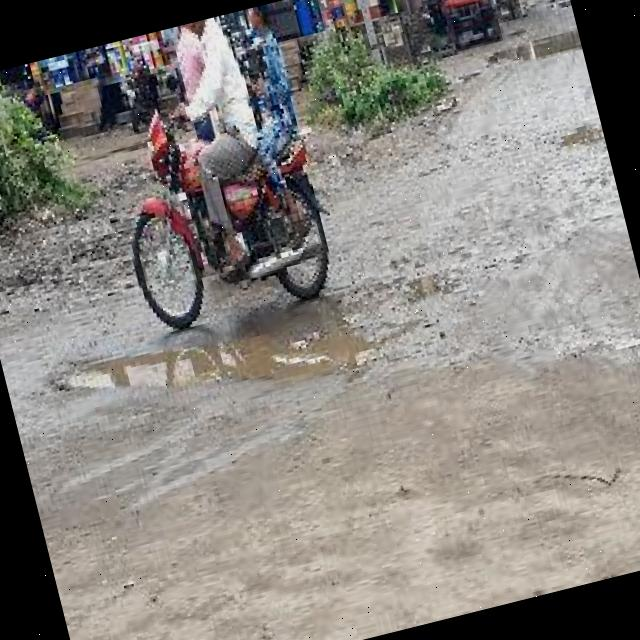stagnation: (14, 245, 406, 458)
